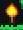torchT: (1, 0, 23, 30)
